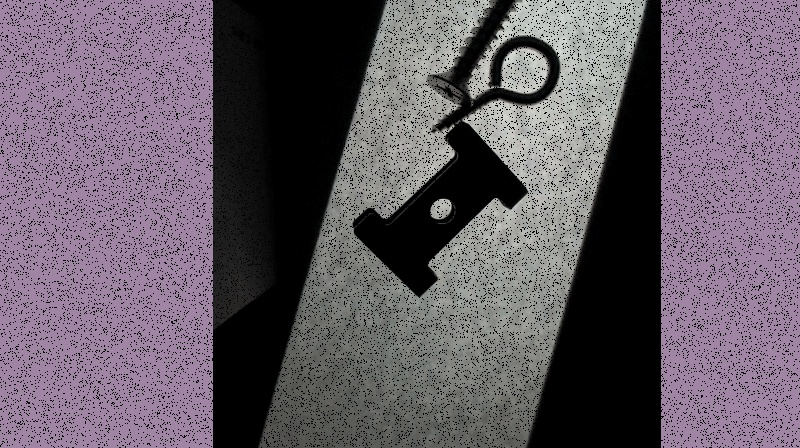O001: (428, 35, 561, 137)
O002: (353, 125, 527, 298)
S001: (427, 0, 537, 108)
